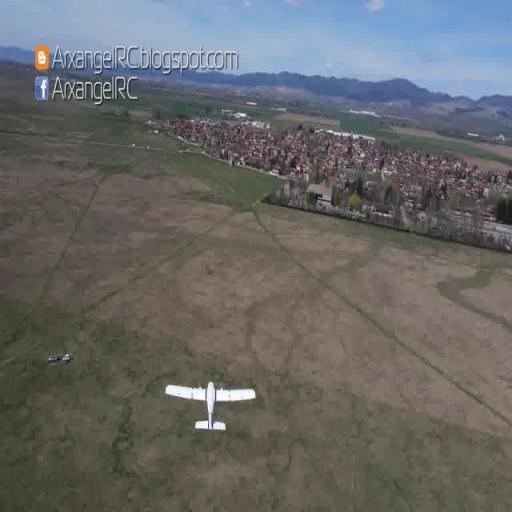uav: (162, 374, 262, 436)
